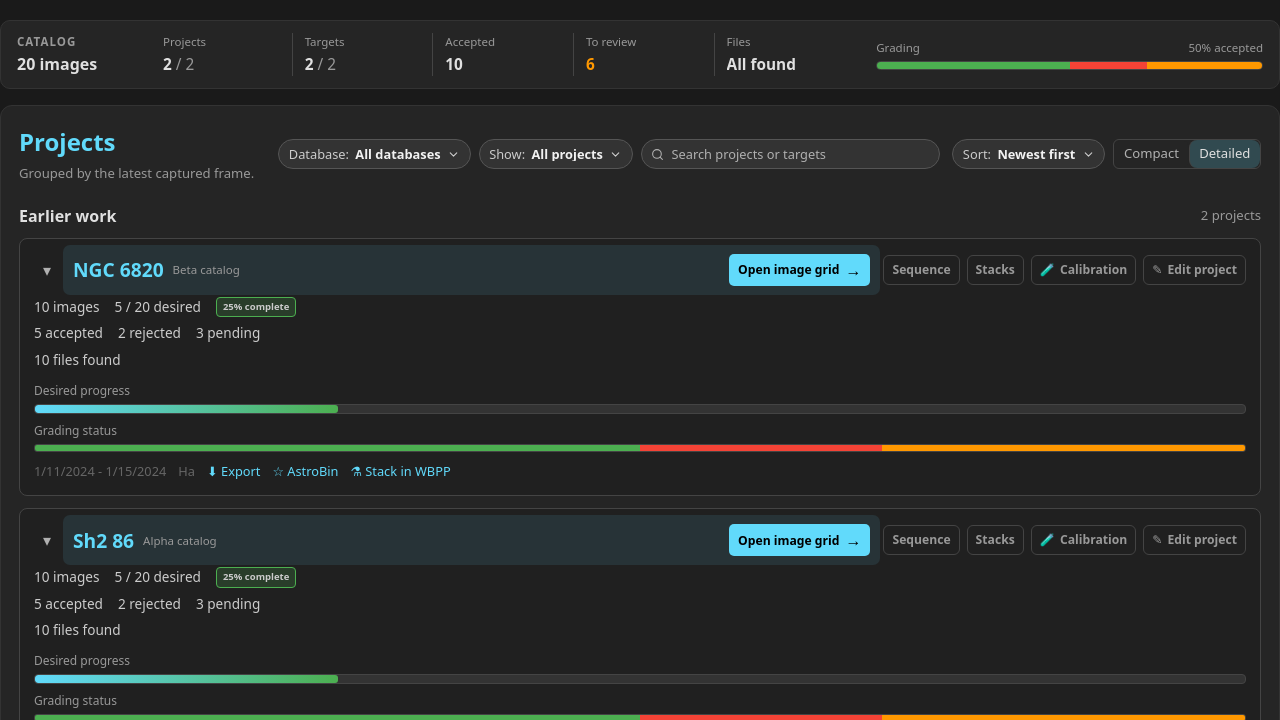
Overview database filter › narrows the projects list to the chosen database
The width and height of the screenshot is (1280, 720).
Check: the text "Sh2 86" is shown, box [73, 527, 134, 554]
Check: the text "NGC 6820" is shown, box [73, 256, 164, 284]
Select "Beta catalog" in the dropdown named "Filter projects by database" at (374, 154), box [278, 139, 470, 169]
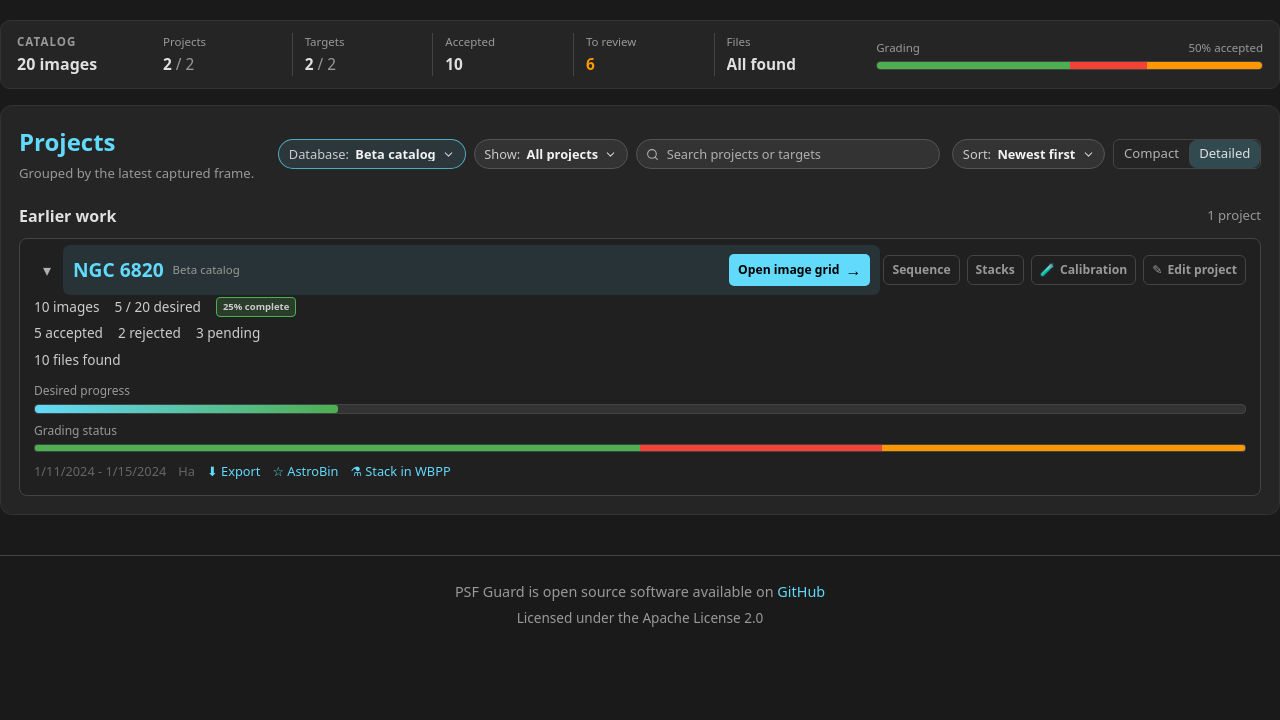
Check: the text "NGC 6820" is shown, box [73, 256, 164, 284]
Check: the button "Sh2 86" is gone
Select "All databases" in the dropdown named "Filter projects by database" at (372, 154), box [278, 139, 466, 169]
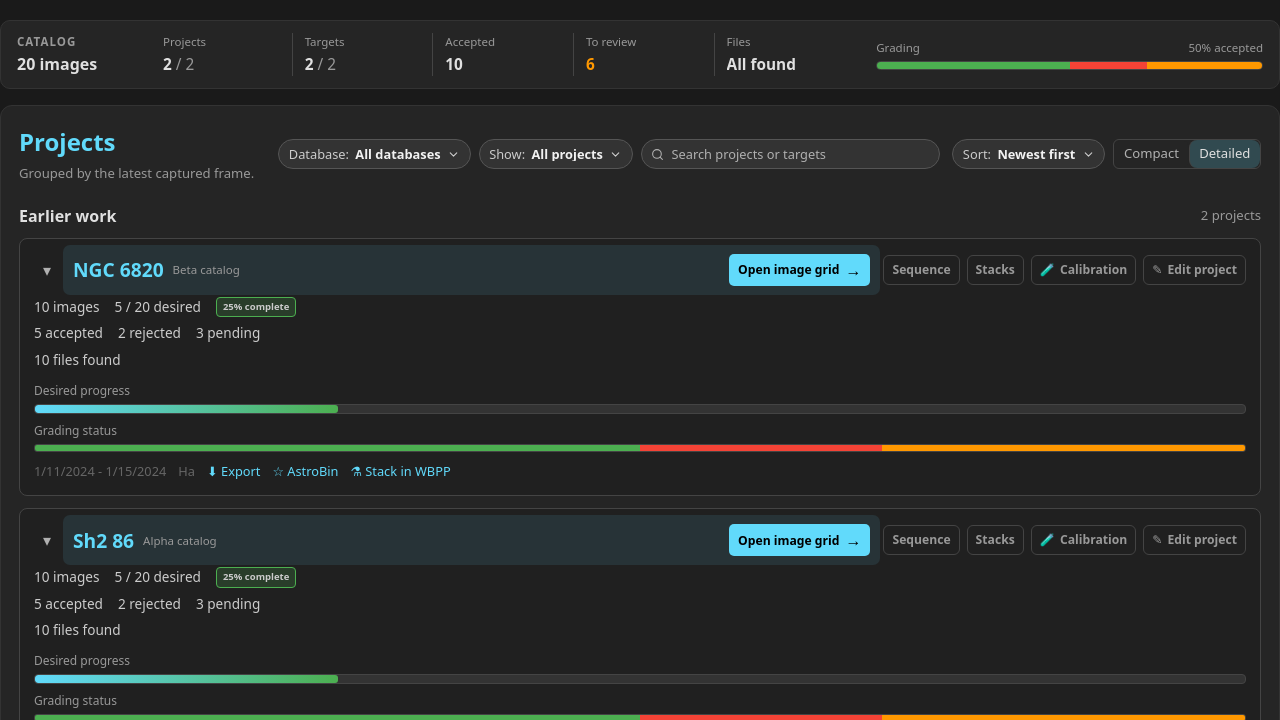
Check: the text "Sh2 86" is shown, box [73, 527, 134, 554]
